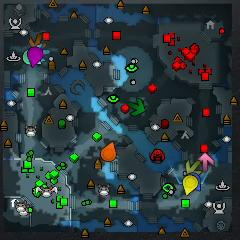p1: (187, 172, 202, 192)
p2: (23, 50, 41, 65)
p3: (27, 47, 43, 67)
p4: (183, 176, 198, 195)
p5: (101, 142, 116, 161)
x1: (199, 154, 214, 172)
x2: (185, 161, 202, 175)
x3: (37, 44, 51, 63)
x4: (128, 99, 146, 115)
x5: (29, 33, 46, 49)
